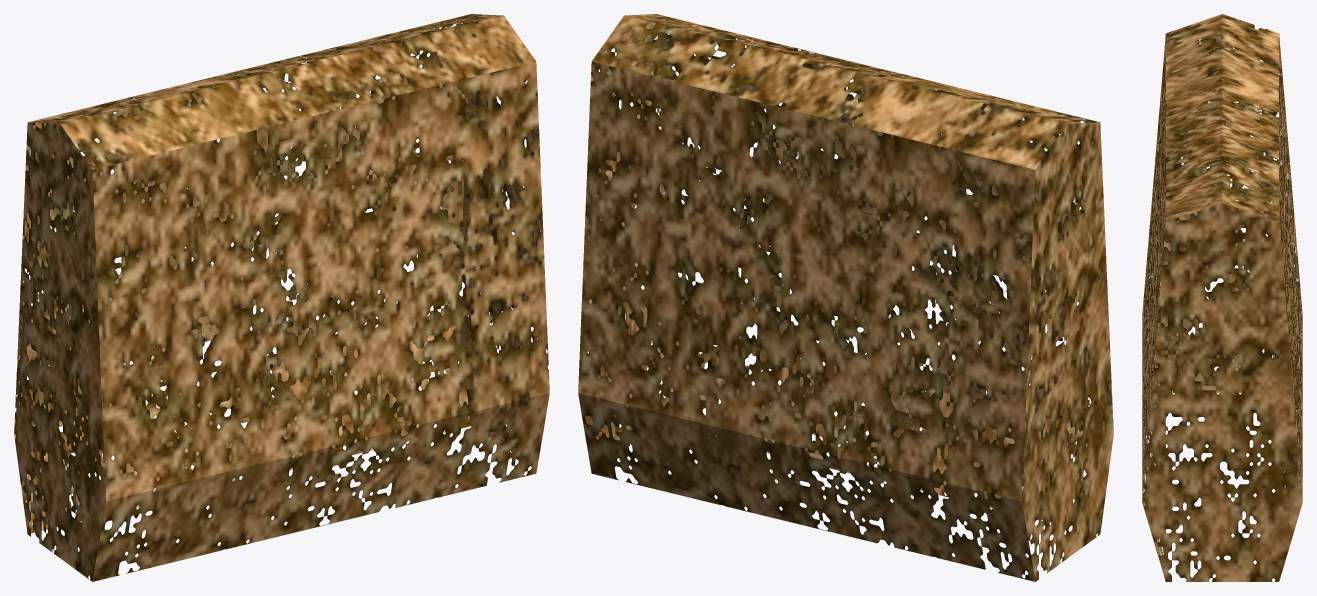
File: bush_tall_autumn.fbx
The picture shows the model from 3 angles, left to right: view 1: azimuth 30°, elevation 25°; view 2: azimuth 150°, elevation 25°; view 3: azimuth 270°, elevation 25°; orthographic projection. The views are drawn at different scales.
Parts seen in each view (by area): view 1: bush_tall_autumn; view 2: bush_tall_autumn; view 3: bush_tall_autumn.
Part boxes in pixels (box(x1,y1,x2,y2)): bush_tall_autumn: box(14, 14, 549, 581); bush_tall_autumn: box(578, 14, 1113, 581); bush_tall_autumn: box(1142, 14, 1302, 581).
Bounding box in the file's own units: 201 × 188 × 71.91.
1 material, 1 textured.
